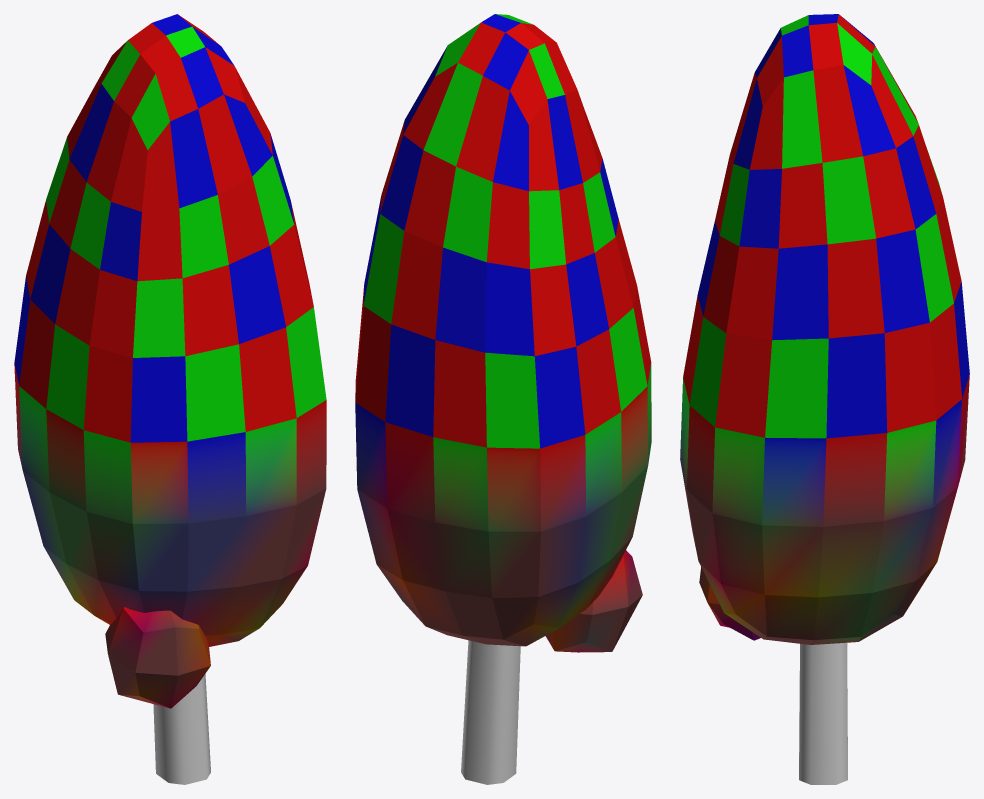
File: Tree_B_01.fbx
3 renders of one model, left to right at view 1: azimuth 30°, elevation 25°; view 2: azimuth 150°, elevation 25°; view 3: azimuth 270°, elevation 25°, orthographic.
Visible parts, largest first — view 1: Tree_B_01_Leaves, Tree_B_01_Trunk; view 2: Tree_B_01_Leaves, Tree_B_01_Trunk; view 3: Tree_B_01_Leaves, Tree_B_01_Trunk.
Part boxes in pixels (bbox=[...]): Tree_B_01_Leaves: bbox=[14, 14, 326, 708]; Tree_B_01_Trunk: bbox=[153, 674, 210, 784]; Tree_B_01_Leaves: bbox=[355, 14, 651, 652]; Tree_B_01_Trunk: bbox=[461, 640, 520, 784]; Tree_B_01_Leaves: bbox=[680, 14, 969, 644]; Tree_B_01_Trunk: bbox=[799, 642, 847, 784].
Size of the model in its own units: 0.8761 by 2.58 by 0.8992.
